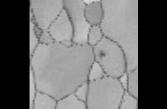good_void: (98, 49, 106, 59)
